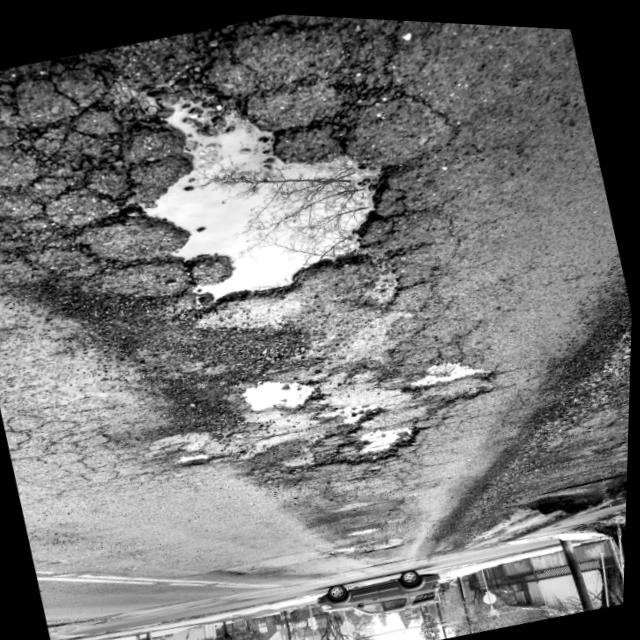pathole: (0, 11, 494, 539), (291, 464, 421, 573)
